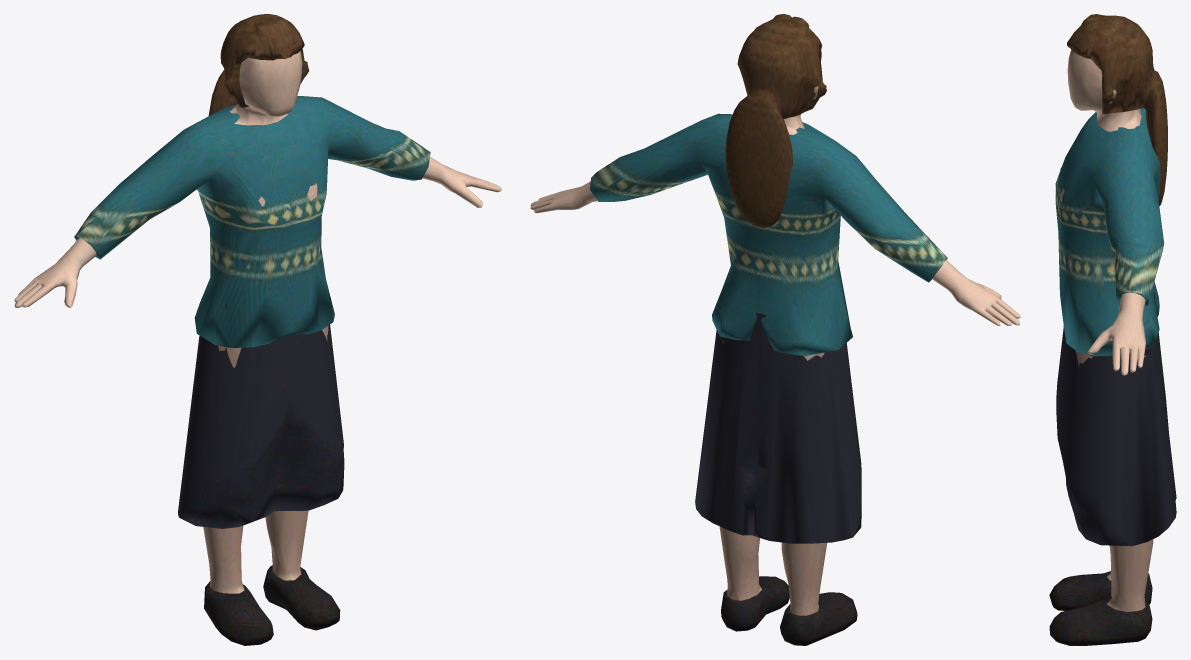
File: npc_x_woman2.glb
The picture shows the model from 3 angles, left to right: view 1: azimuth 30°, elevation 25°; view 2: azimuth 150°, elevation 25°; view 3: azimuth 270°, elevation 25°; orthographic projection.
Parts seen in each view (by area): view 1: Human; view 2: Human; view 3: Human.
Boxes of the visible parts, x1,y1,x2,y2 form: Human: (14, 14, 501, 645); Human: (530, 14, 1020, 645); Human: (1049, 14, 1176, 645).
Bounding box in the file's own units: 1.43 × 1.7 × 0.3231.
1 material, 1 textured.
